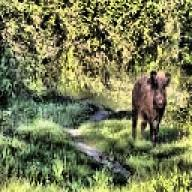boar: (129, 69, 171, 144)
